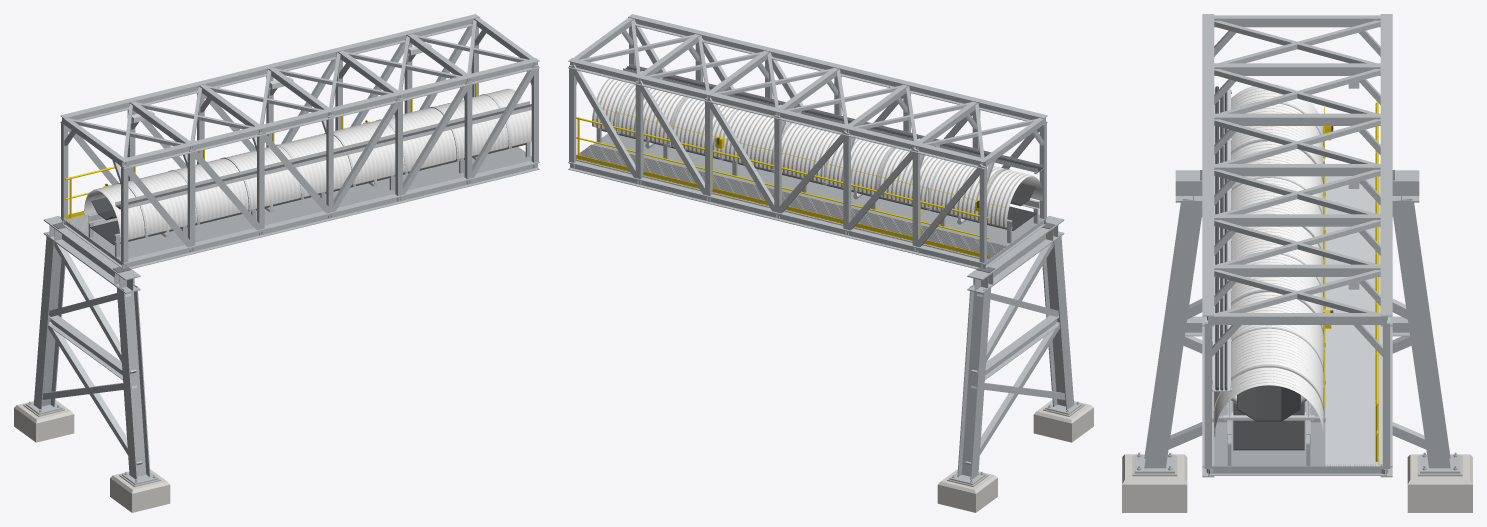
Rendered from Conveyor_Gallery_Module.glb.
The picture shows the model from 3 angles, left to right: view 1: azimuth 30°, elevation 25°; view 2: azimuth 150°, elevation 25°; view 3: azimuth 270°, elevation 25°; orthographic projection. The views are drawn at different scales.
Parts seen in each view (by area): view 1: chords, hood_sheets, spill_deck, idler_frames, pedestals, belt_carry, cables; view 2: chords, hood_sheets, idler_frames, spill_deck, toe_board, pedestals, belt_carry, cables; view 3: chords, hood_sheets, idler_frames, pedestals, belt_carry, spill_deck, cables, toe_board, grout_pads.
Boxes of the visible parts, x1,y1,x2,y2 form: chords: (25,14,539,484); hood_sheets: (84,88,531,241); spill_deck: (83,147,531,260); idler_frames: (64,43,531,234); pedestals: (14,399,170,512); belt_carry: (90,143,525,245); cables: (105,104,531,208); chords: (568,14,1082,484); hood_sheets: (592,78,1042,227); idler_frames: (576,64,1043,260); spill_deck: (592,133,1043,247); toe_board: (576,106,1006,258); pedestals: (937,399,1093,512); belt_carry: (601,129,1037,230); cables: (625,66,1042,207); chords: (1134,14,1460,477); hood_sheets: (1214,84,1323,437); idler_frames: (1212,75,1382,466); pedestals: (1122,454,1472,512); belt_carry: (1233,385,1304,450); spill_deck: (1214,176,1325,466); cables: (1215,86,1333,390); toe_board: (1323,102,1378,464); grout_pads: (1132,455,1462,476).
Bounding box in the file's own units: 251 × 180 × 118.
